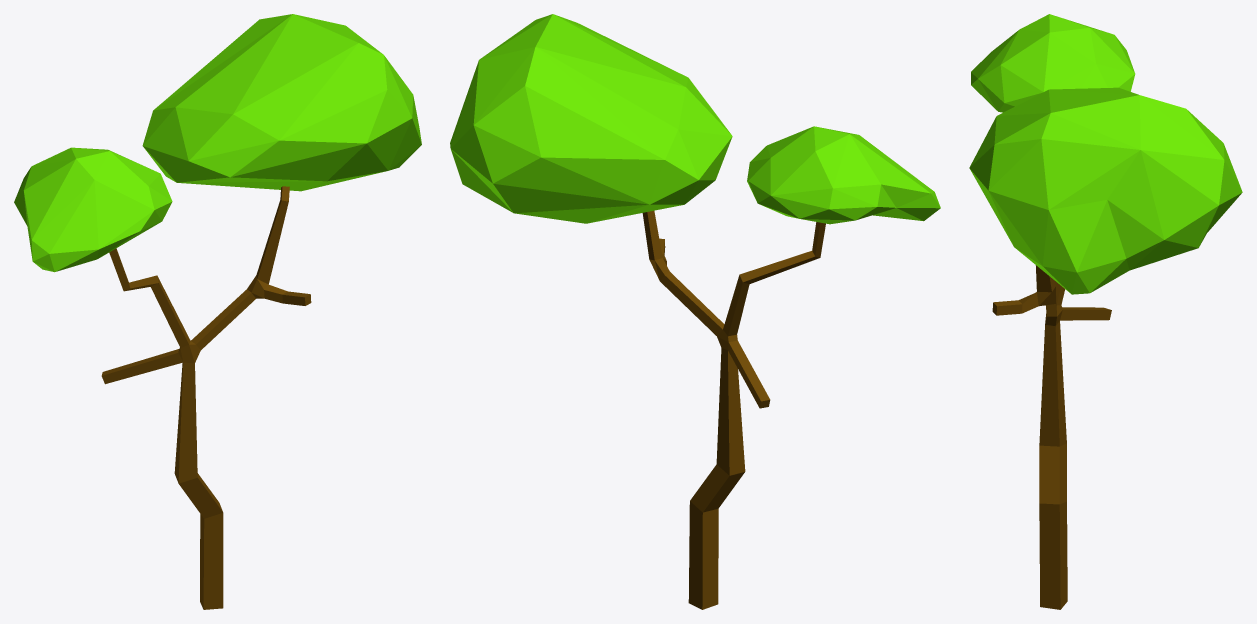
Rendered from Leafy_Tree_1.fbx.
3 views of the same model, side by side, from view 1: azimuth 30°, elevation 25°; view 2: azimuth 150°, elevation 25°; view 3: azimuth 270°, elevation 25° (orthographic). The views are drawn at different scales.
Visible parts, largest first — view 1: Leafy Tree 1; view 2: Leafy Tree 1; view 3: Leafy Tree 1.
Boxes of the visible parts, x1,y1,x2,y2 form: Leafy Tree 1: (14,14,421,609); Leafy Tree 1: (450,14,940,609); Leafy Tree 1: (969,14,1242,609).
Size of the model in its own units: 225 by 272 by 117.
